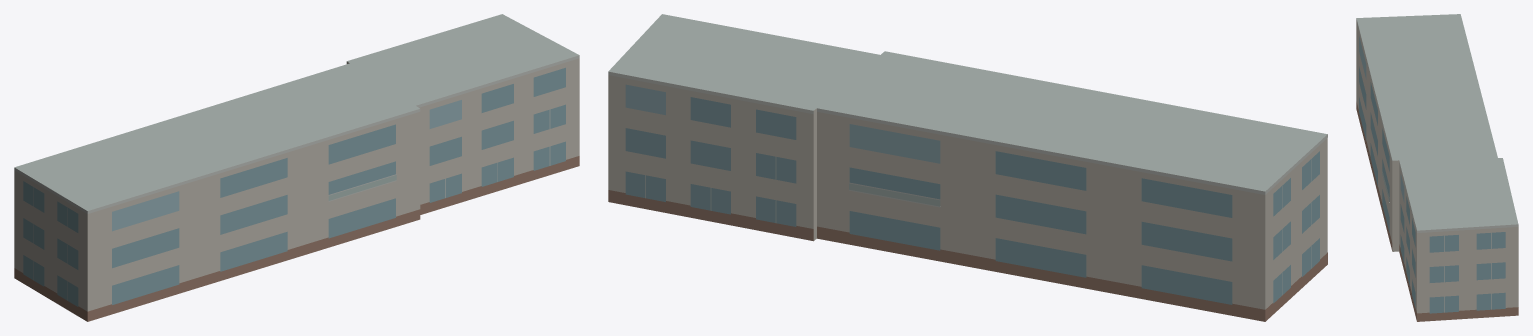
File: survey-upis-33024923.glb
3 renders of one model, left to right at view 1: azimuth 30°, elevation 25°; view 2: azimuth 150°, elevation 25°; view 3: azimuth 270°, elevation 25°, orthographic. The views are drawn at different scales.
Parts seen in each view (by area): view 1: survey-upis-33024923.tmp; view 2: survey-upis-33024923.tmp; view 3: survey-upis-33024923.tmp.
Part boxes in pixels (x1,y1,x2,y2): survey-upis-33024923.tmp: [14, 14, 579, 321]; survey-upis-33024923.tmp: [608, 14, 1327, 321]; survey-upis-33024923.tmp: [1356, 14, 1518, 321].
Size of the model in its own units: 46.6 by 9.15 by 14.74.
